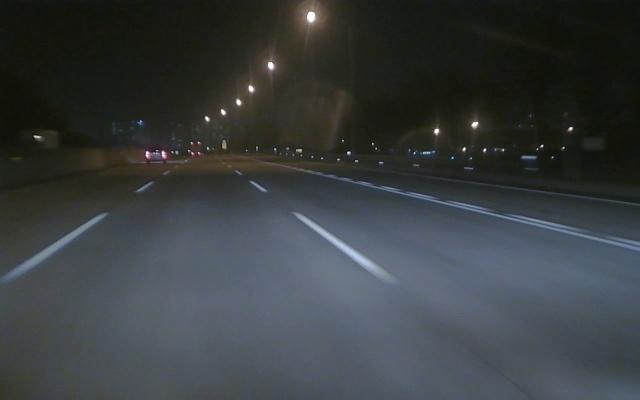lane: (309, 171, 638, 251), (247, 179, 406, 285), (3, 182, 152, 283)
